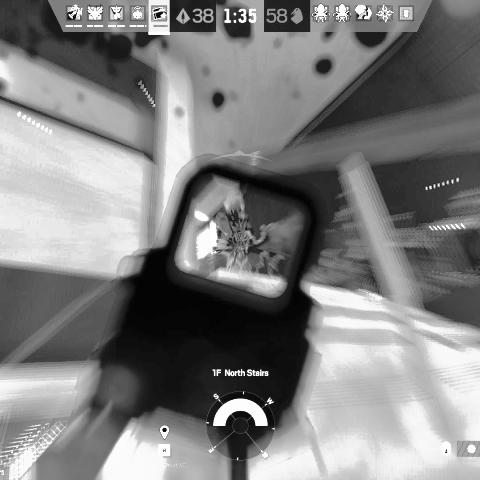Character: (213, 188, 256, 273)
Head: (222, 191, 247, 217)
